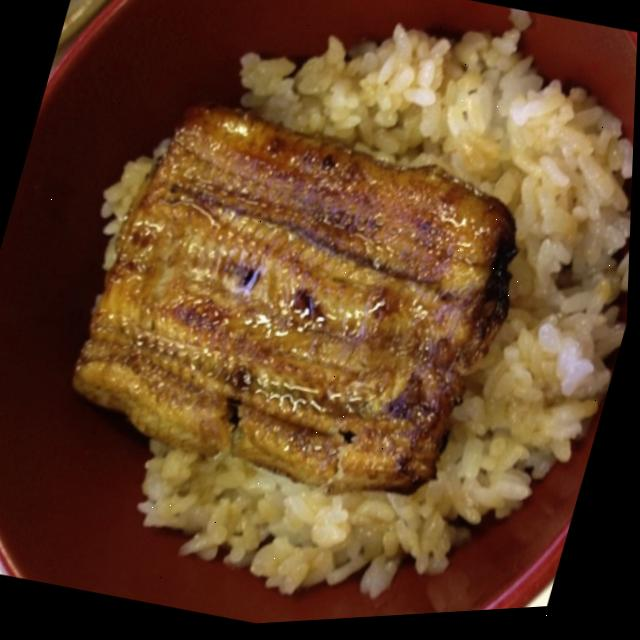面条主食: (26, 0, 640, 638)
